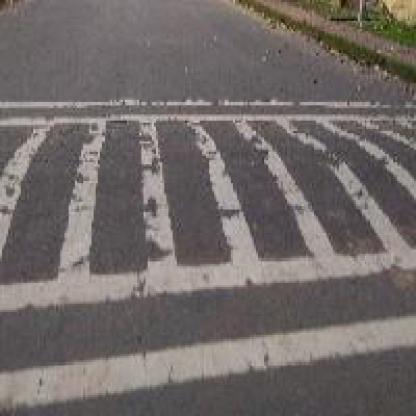Speed Bump: (2, 98, 414, 410)
